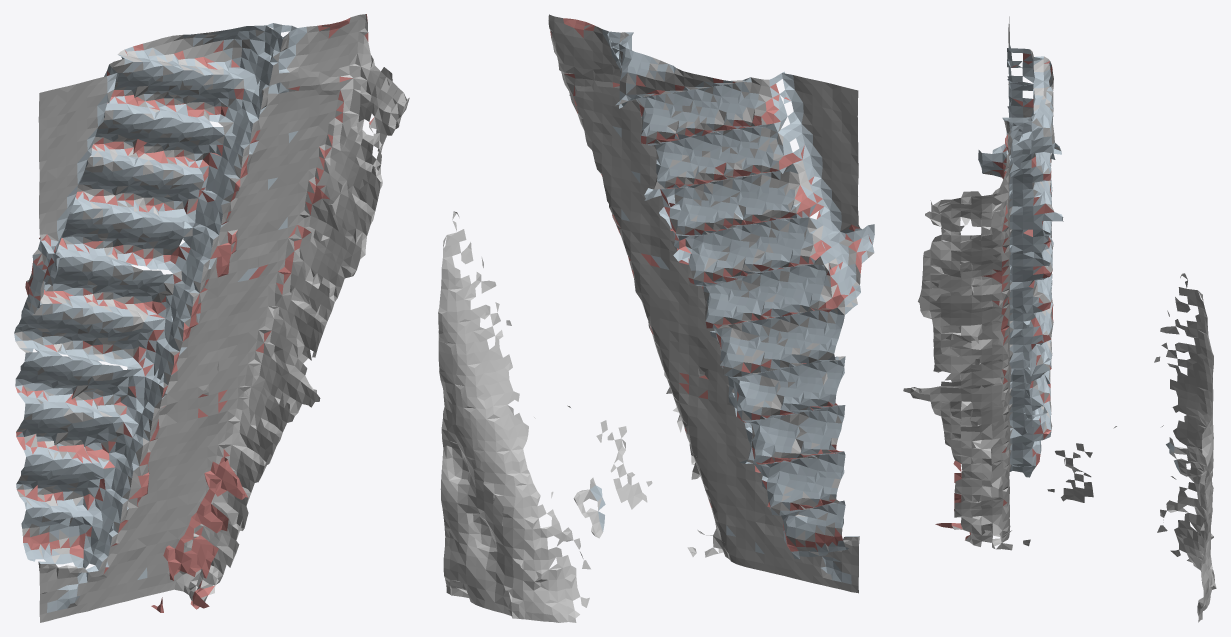
The model's file is B173-뜬면-2__lt_dynnow_ALS_s0__after.glb.
The picture shows the model from 3 angles, left to right: view 1: azimuth 30°, elevation 25°; view 2: azimuth 150°, elevation 25°; view 3: azimuth 270°, elevation 25°; orthographic projection. The views are drawn at different scales.
Bounding box in the file's own units: 26.21 × 40.36 × 24.41.
